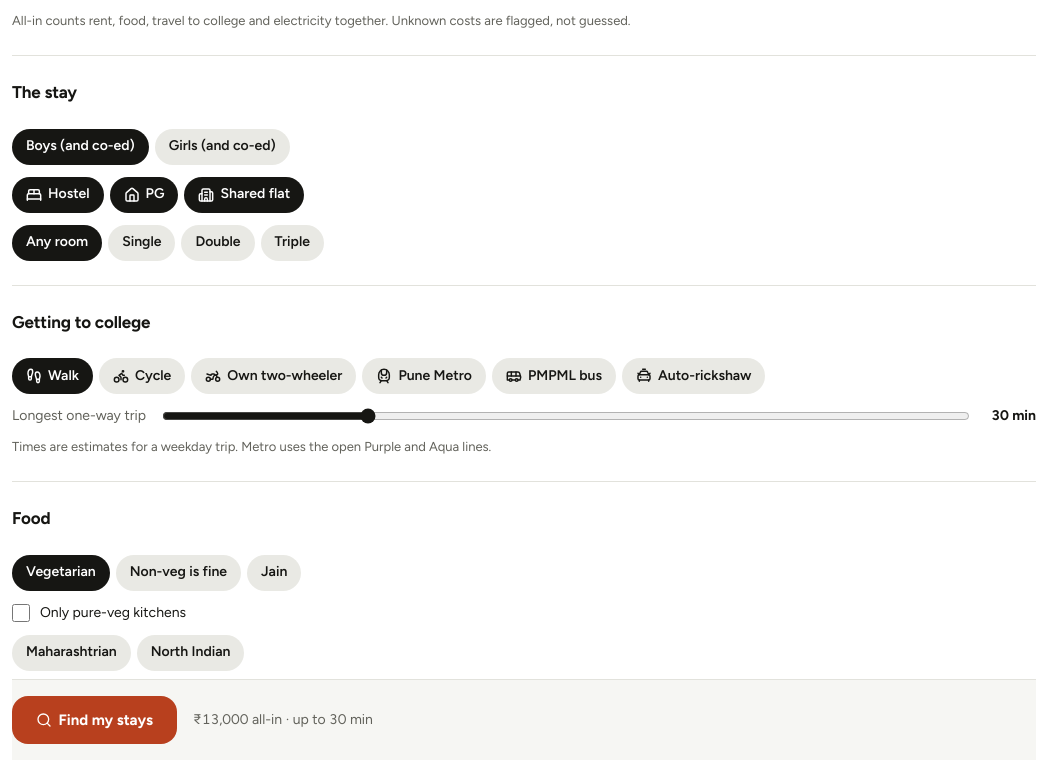
Test: PreferenceForm › requires at least one travel mode
(page scrolled)
Click the button "Walk" at x=52, y=376, box [12,358,93,394]
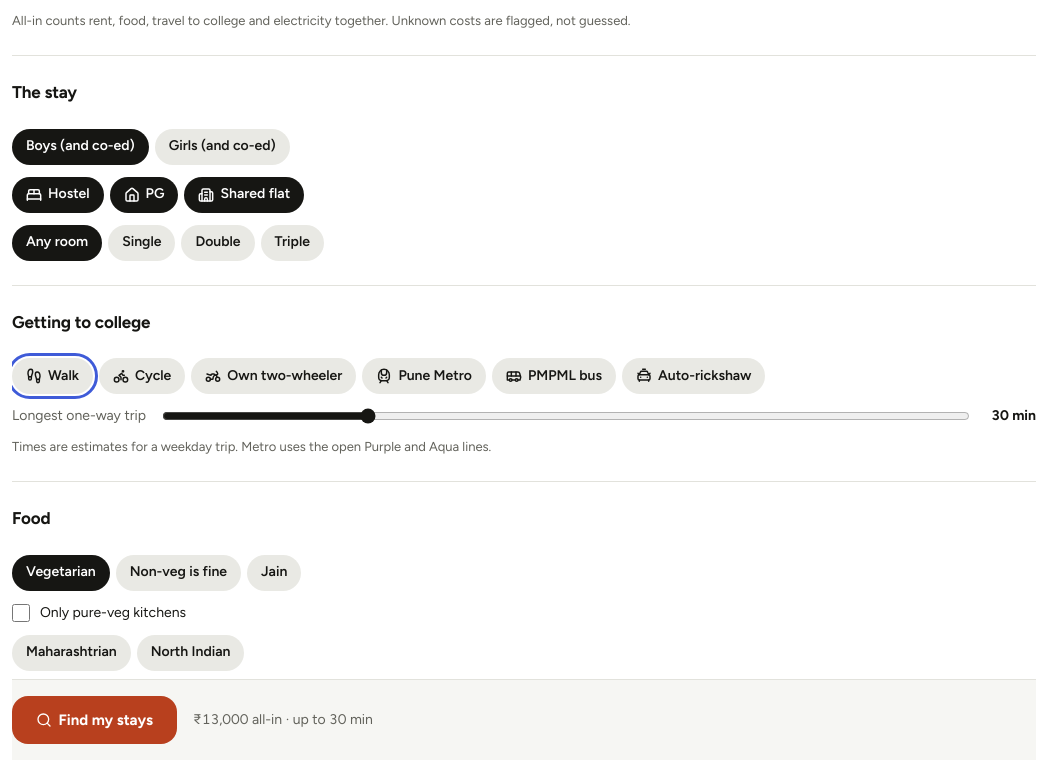
Click the button "Find my stays" at x=94, y=720, box [12,696,177,744]
(page scrolled)
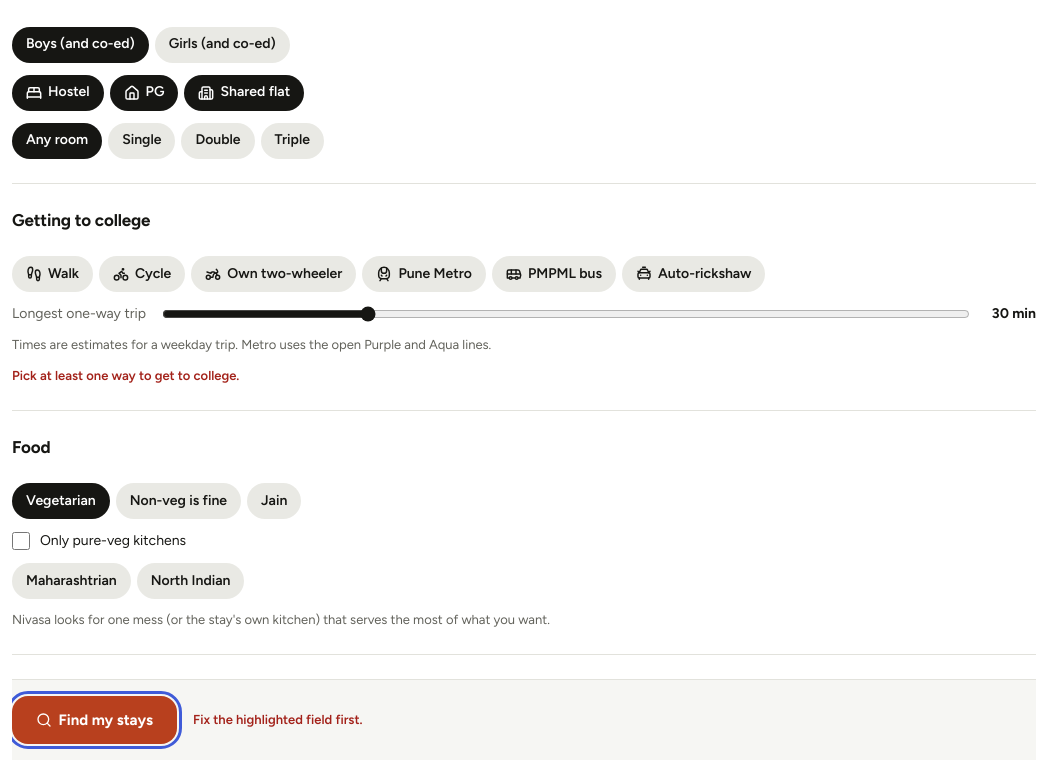
Result: the text "Pick at least one way to get to college." is shown at [12,368,239,383]
